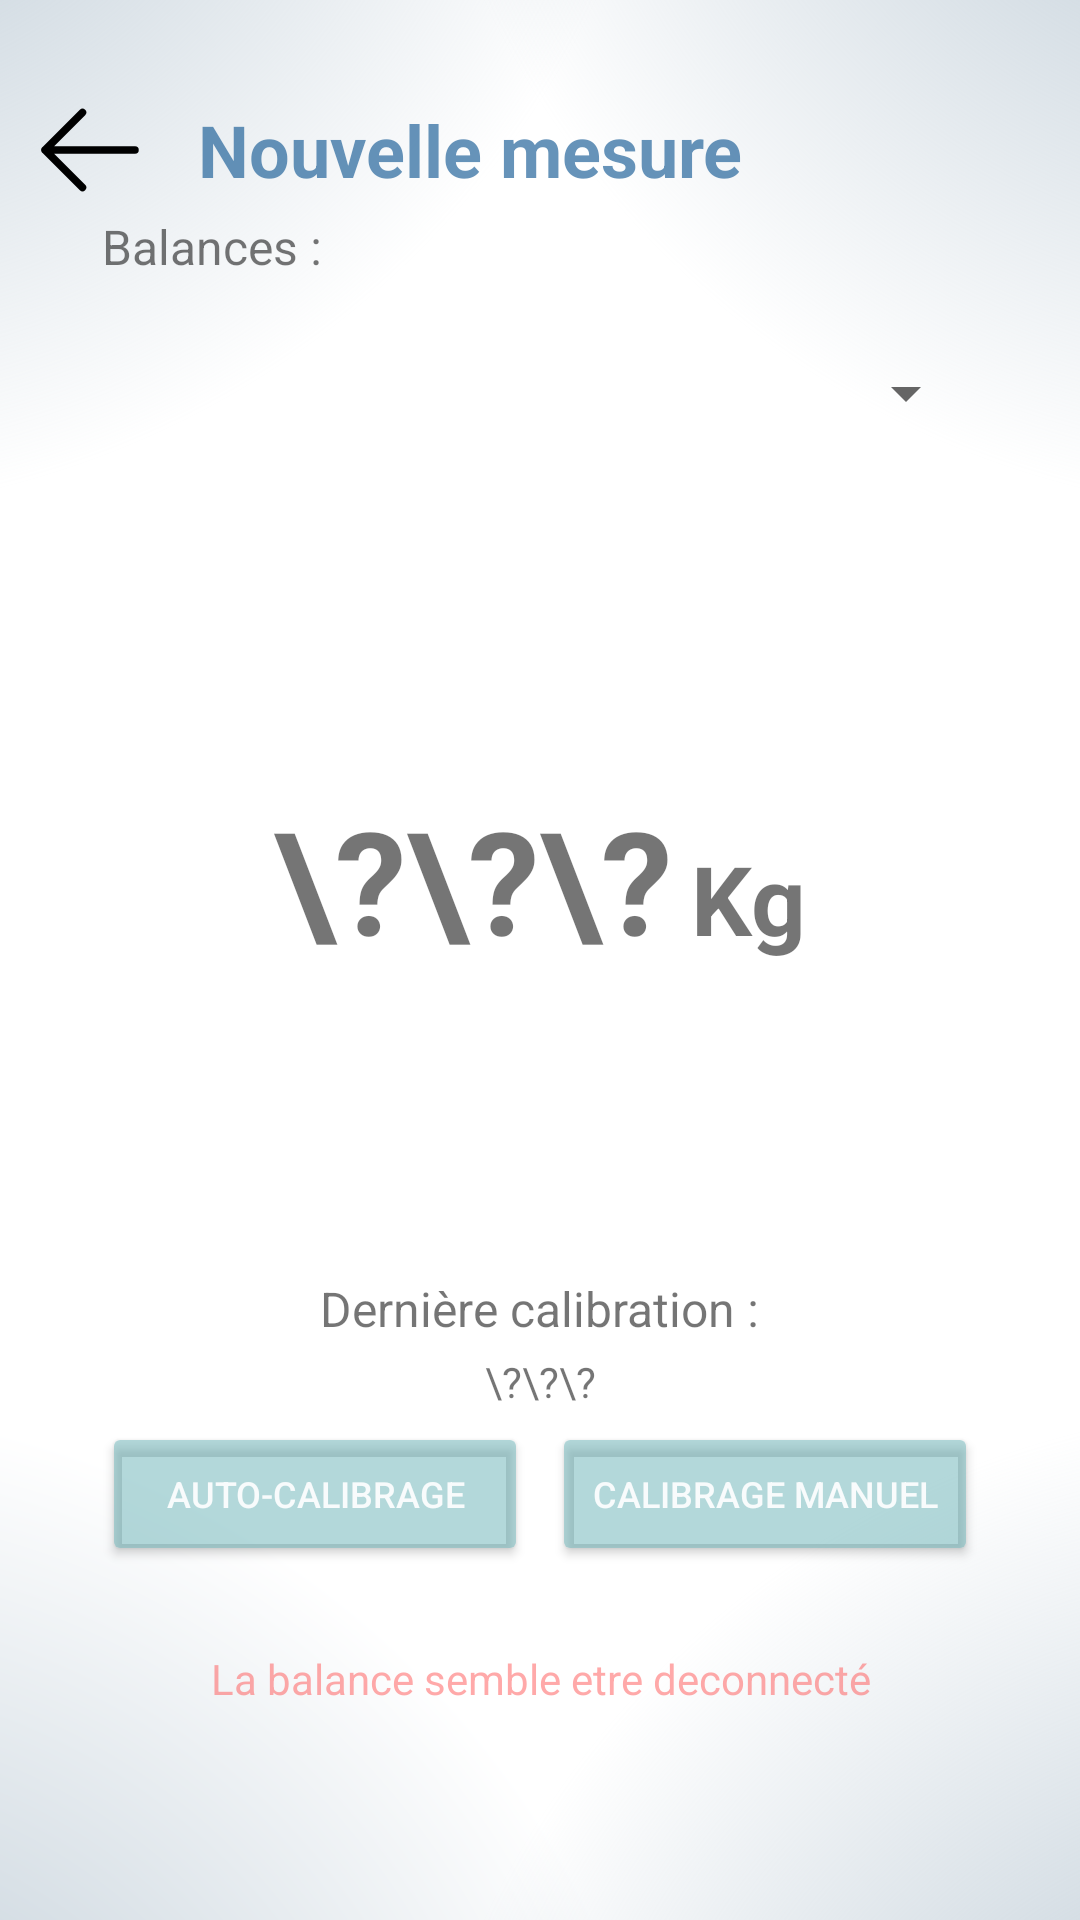

Named icons in this screenshot (1080w x 1920h) and their centers, (x=x, y=y):
return arrow: (x=90, y=150)
